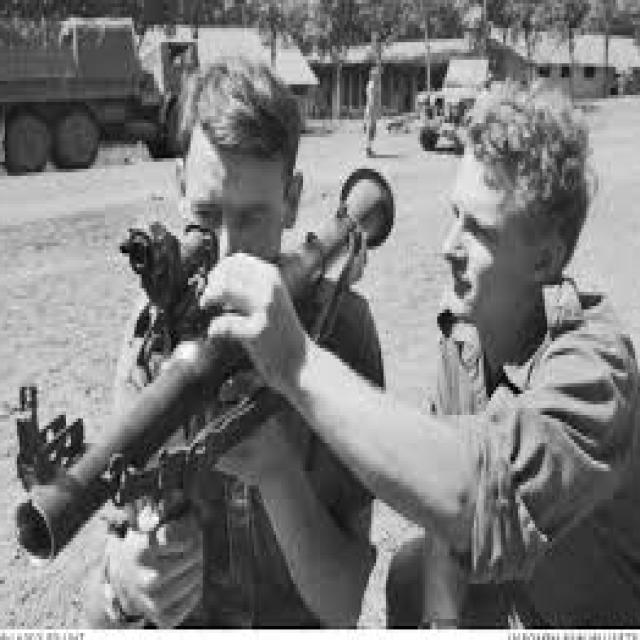Gun: (0, 147, 416, 590)
